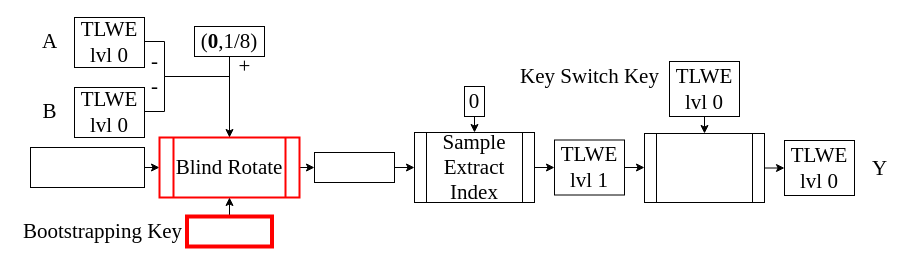
This 912x266 diagram has some shape labels left out. Each missing label, with the centre of its shape:
"Identity Key Switch" belongs at point (704, 167).
"Test Vector" belongs at point (87, 167).
"TRGSW" belongs at point (229, 231).
"TRLWE" belongs at point (354, 167).
